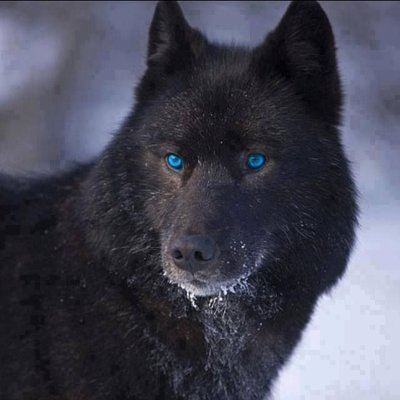Lobo: (26, 10, 340, 375)
